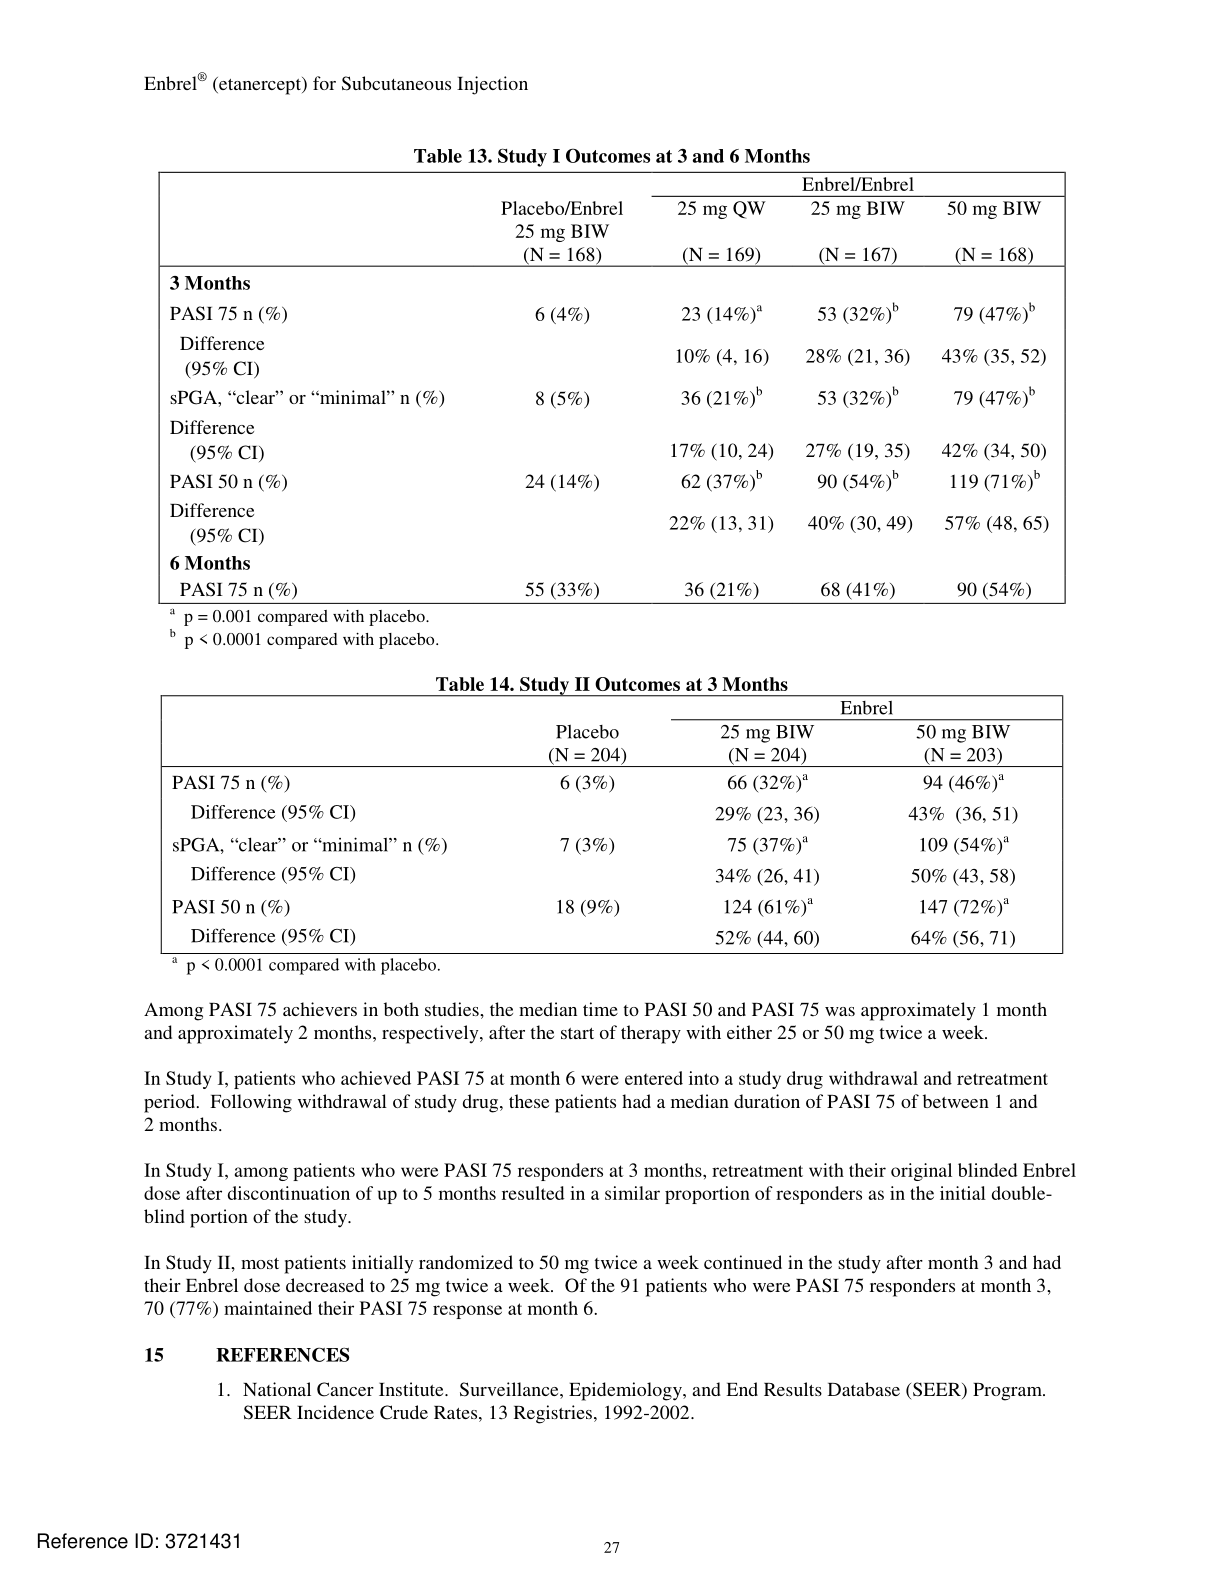partial_lined_merged_cells: (157, 171, 1067, 606), (159, 694, 1065, 955)
